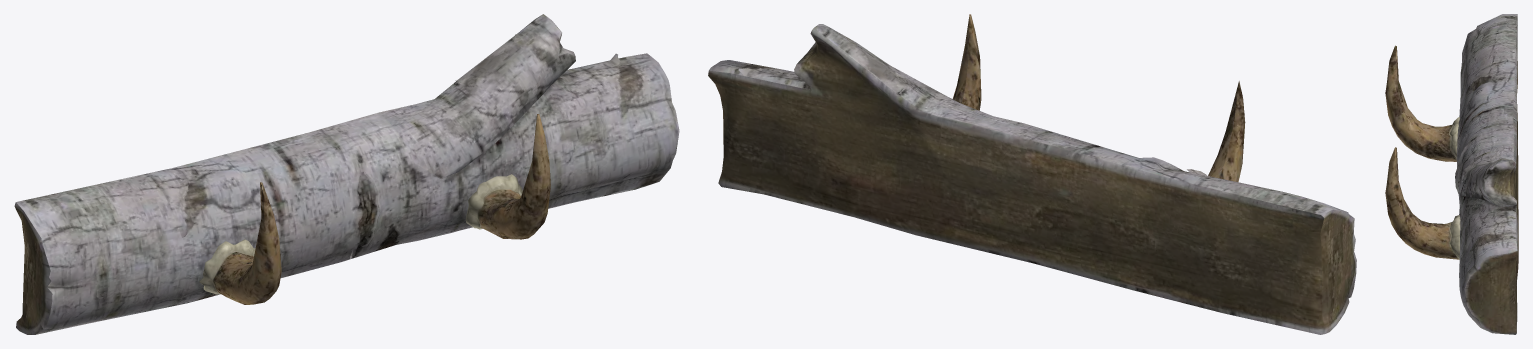
File: singleweaponrack3.glb
3 views of the same model, side by side, from view 1: azimuth 30°, elevation 25°; view 2: azimuth 150°, elevation 25°; view 3: azimuth 270°, elevation 25° (orthographic). The views are drawn at different scales.
Visible parts, largest first — view 1: SingleWeaponRack3; view 2: SingleWeaponRack3; view 3: SingleWeaponRack3.
Boxes of the visible parts, bbox=[...] form: SingleWeaponRack3: bbox=[14, 14, 679, 334]; SingleWeaponRack3: bbox=[708, 14, 1356, 334]; SingleWeaponRack3: bbox=[1385, 14, 1518, 334].
Bounding box in the file's own units: 0.9305 × 0.2678 × 0.2236.
1 material, 1 textured.
